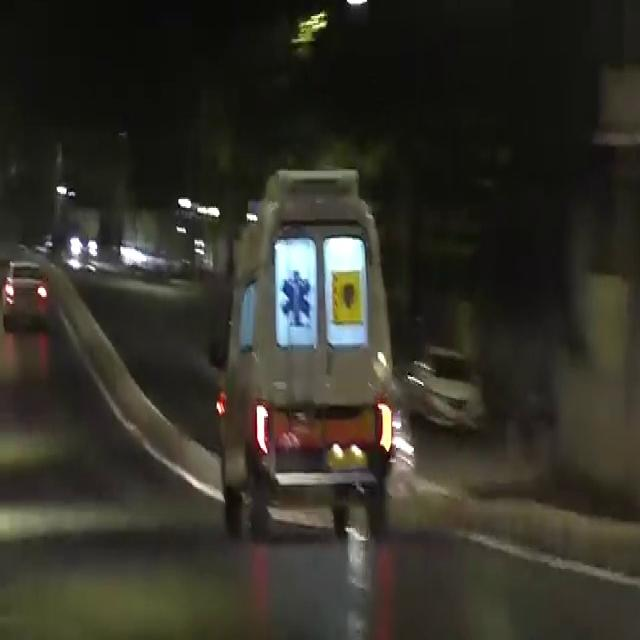ambulance: (232, 206, 414, 510)
